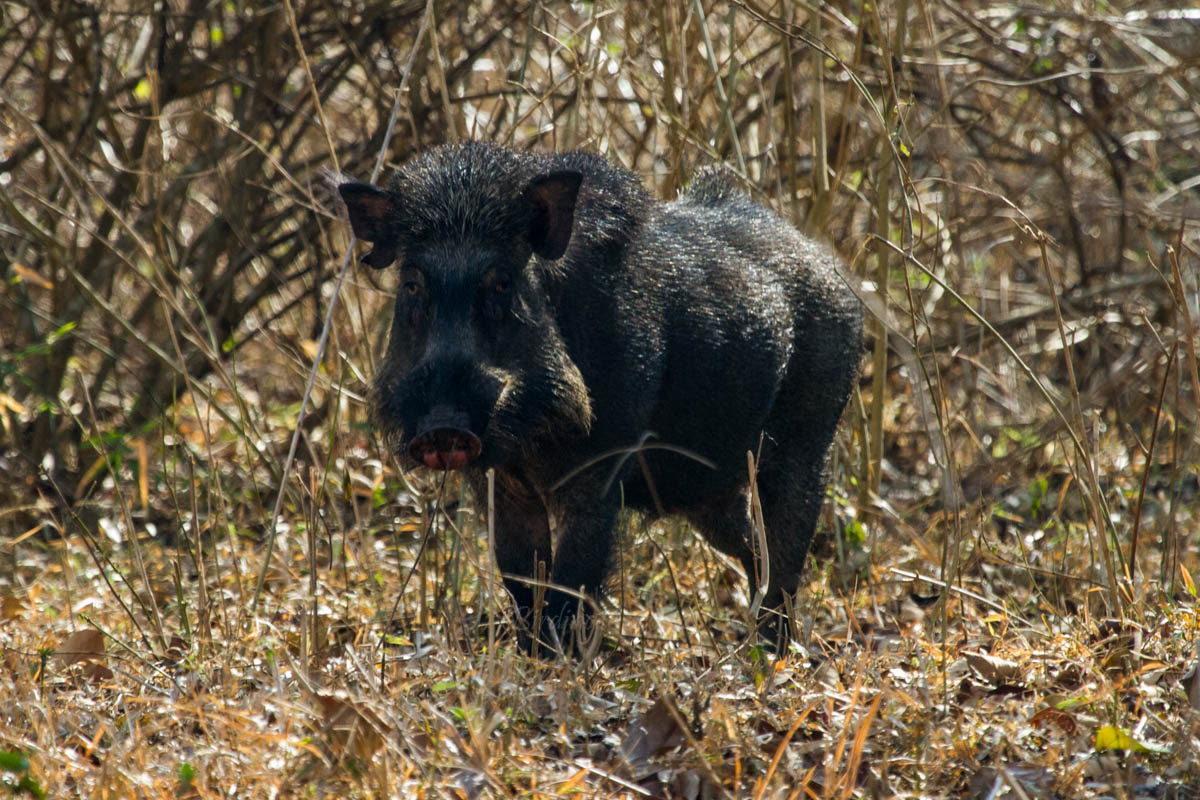wild boar: (317, 99, 925, 665)
